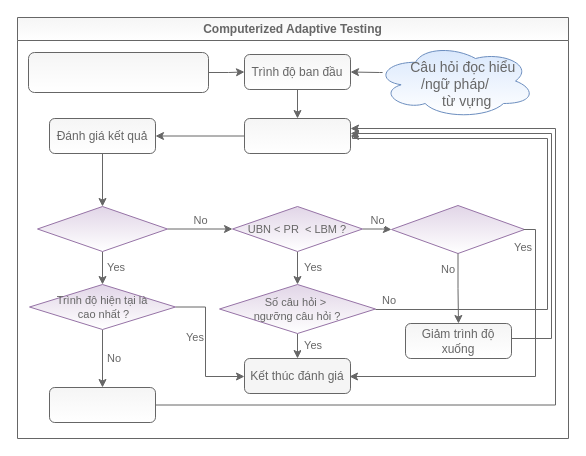
Image size: 586x456. Some labels were removed from this diagram. The shapes that lost their labels are listed below. From the top down, each one's centre as x and y in pixels, then its label:
At [118,72]: "Bạn đã học tiếng Anh được bao lâu ?".
At [297,136]: "Chọn câu hỏi".
At [102,229]: "PR >= LBM ?".
At [457,229]: "Trình độ hiện tại là thấp nhất ?".
At [102,404]: "Tăng trình độ lên".
